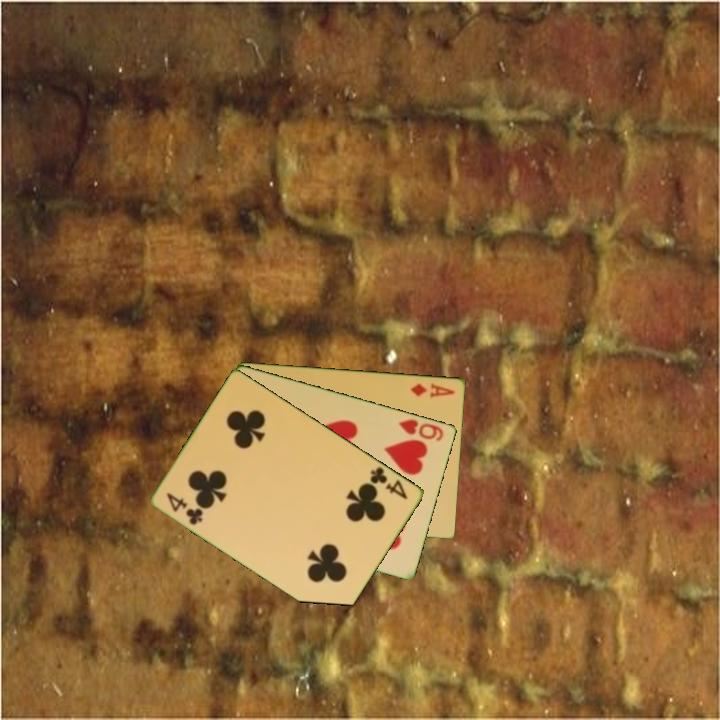4c: (367, 463, 411, 502), (163, 489, 206, 528)
6h: (395, 415, 447, 444)
Ad: (408, 379, 458, 400)
